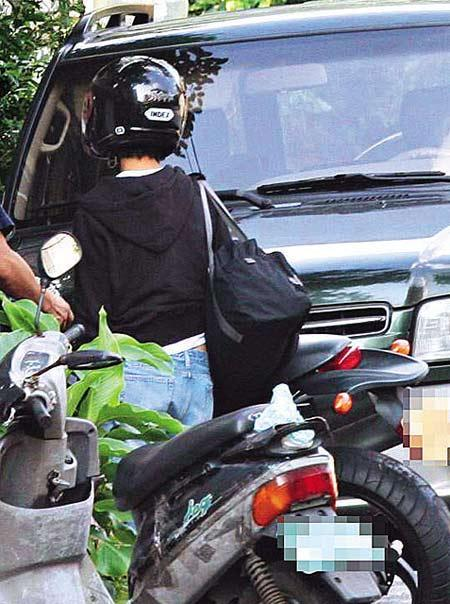helmet: (75, 54, 196, 166)
